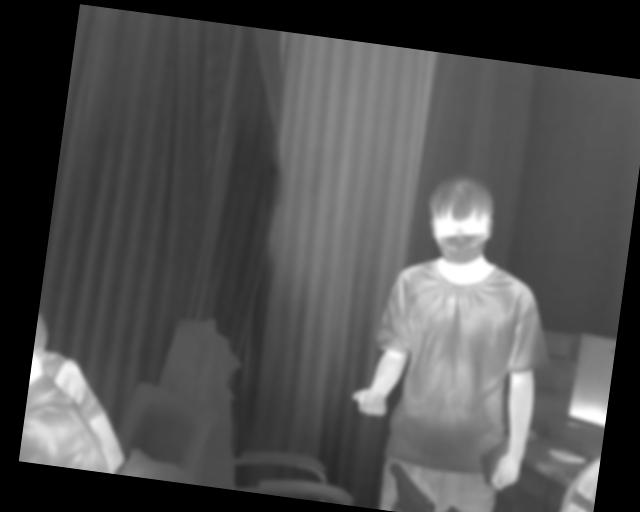face: (421, 172, 499, 270)
